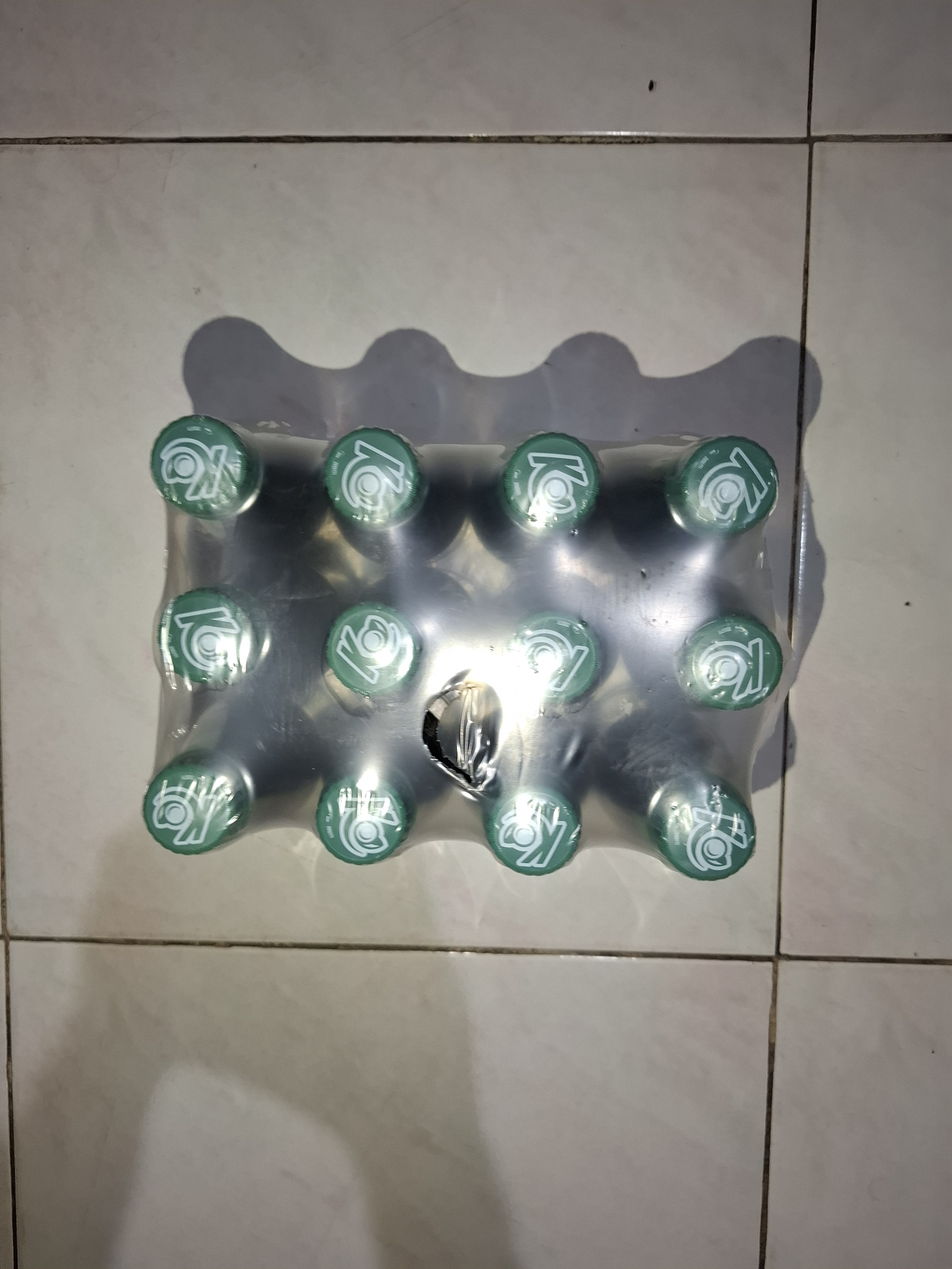Tampa Refrigerante Kuat: (495, 425, 611, 544), (661, 429, 781, 541), (646, 767, 756, 885), (317, 420, 434, 530), (135, 742, 247, 855), (670, 607, 786, 711), (145, 412, 257, 516), (159, 582, 269, 687), (311, 759, 411, 866), (509, 605, 607, 709), (482, 776, 580, 876), (328, 596, 420, 697)
